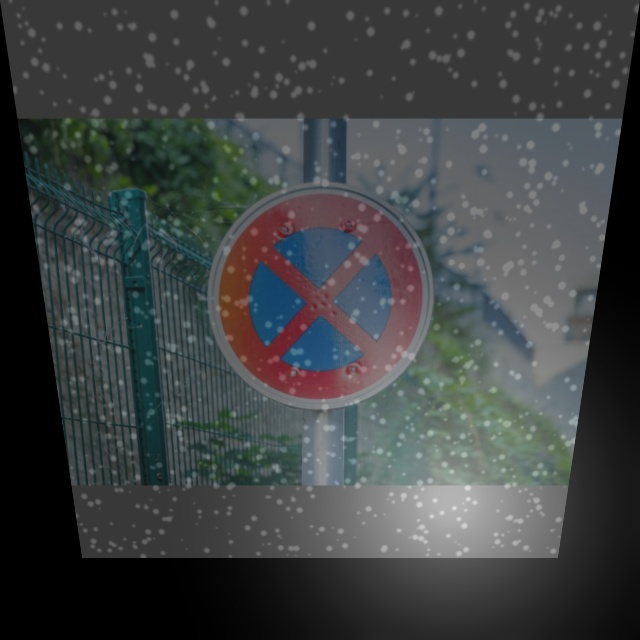No_Stopping_or_Standing: (206, 199, 440, 399)
